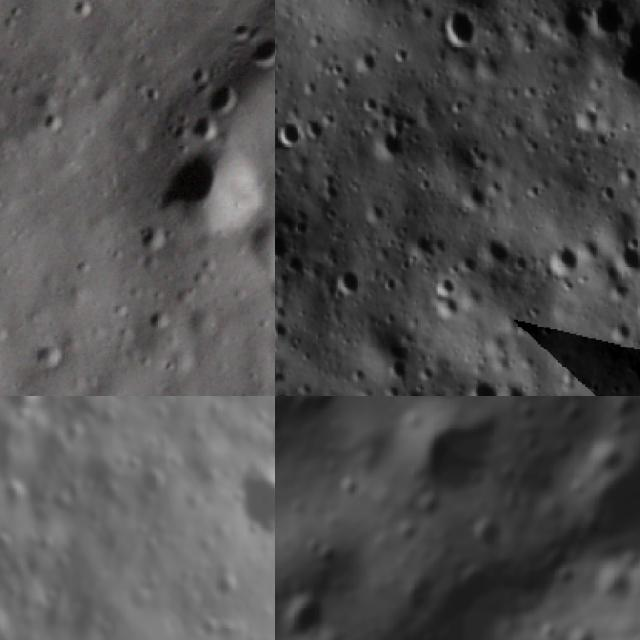crater: (142, 131, 274, 264), (391, 396, 522, 518), (231, 201, 275, 302), (275, 579, 346, 640), (231, 450, 275, 547), (583, 554, 640, 617), (194, 73, 250, 129), (459, 507, 513, 561), (397, 0, 495, 29), (178, 106, 226, 156), (580, 434, 627, 482), (438, 7, 482, 53), (581, 0, 628, 43), (542, 238, 584, 280), (370, 123, 413, 163), (329, 260, 369, 301), (454, 179, 494, 218), (476, 231, 514, 270), (275, 114, 308, 152), (610, 238, 640, 279), (556, 615, 603, 640), (350, 48, 383, 82), (384, 355, 416, 389), (430, 291, 463, 323), (570, 105, 600, 138), (360, 198, 390, 231), (490, 376, 539, 396), (463, 372, 503, 396), (606, 314, 635, 344), (431, 273, 462, 301), (275, 227, 298, 264), (615, 159, 640, 193), (535, 8, 561, 39), (199, 610, 224, 640), (0, 526, 21, 560), (0, 480, 29, 502), (392, 44, 412, 68)
